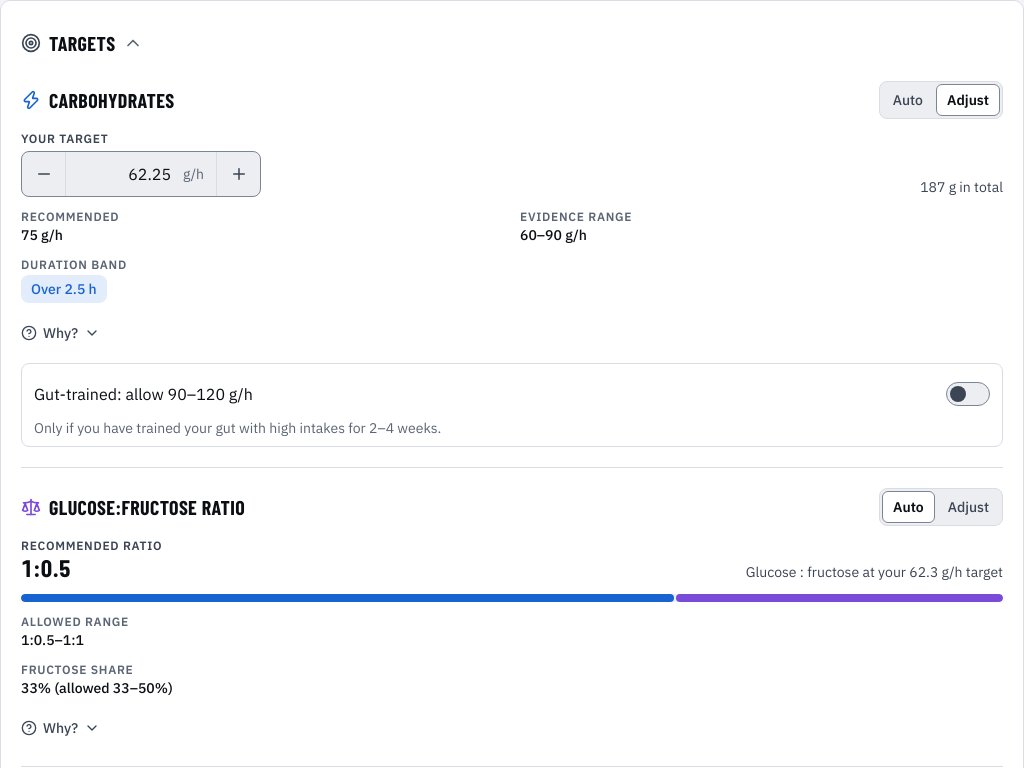
Test case: TargetsSection: carbohydrate target › shows the target the plan uses, to two decimals, and commits at that precision
This screenshot has width=1024, height=768.
Replace the text in the number field labelled "Your target" with "70.125": (124, 174) [66, 152, 183, 196]
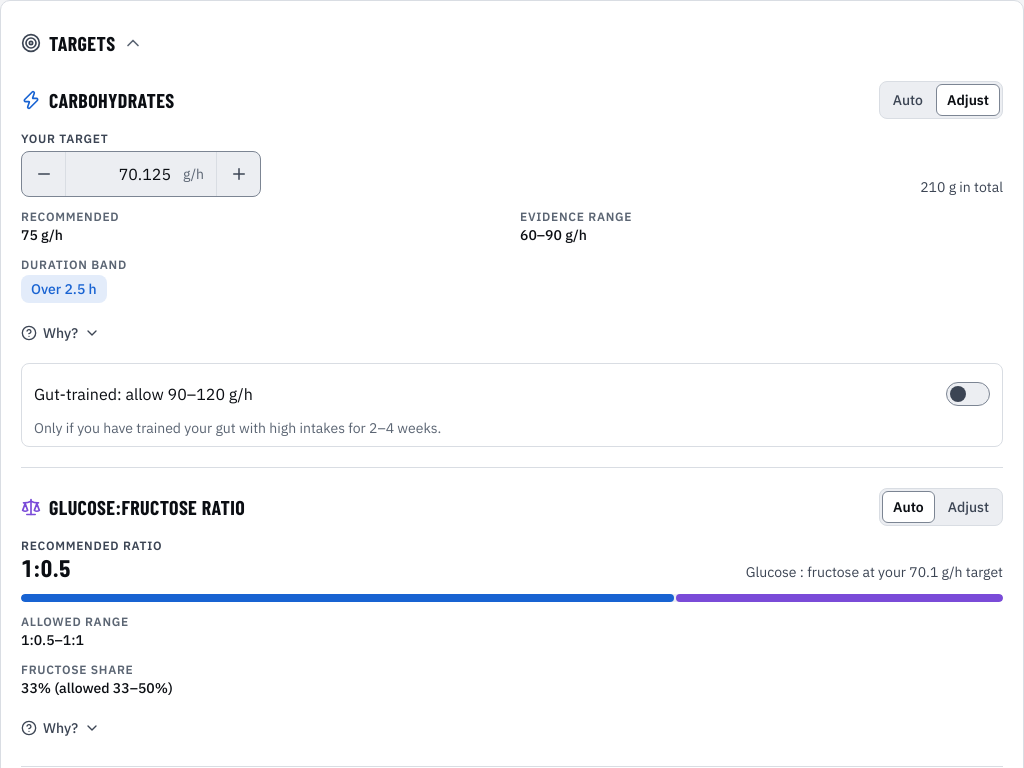
Leave the number field labelled "Your target", box [66, 152, 183, 196]
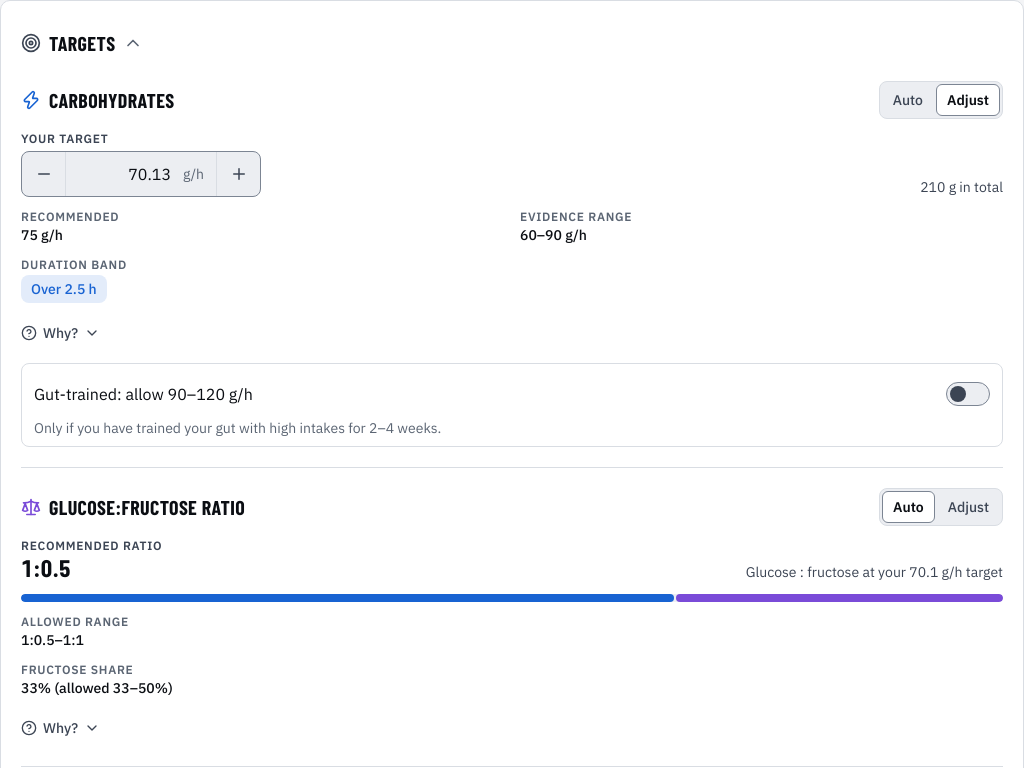
Check: the number field labelled "Your target" holds "70.13", box [66, 152, 183, 196]
